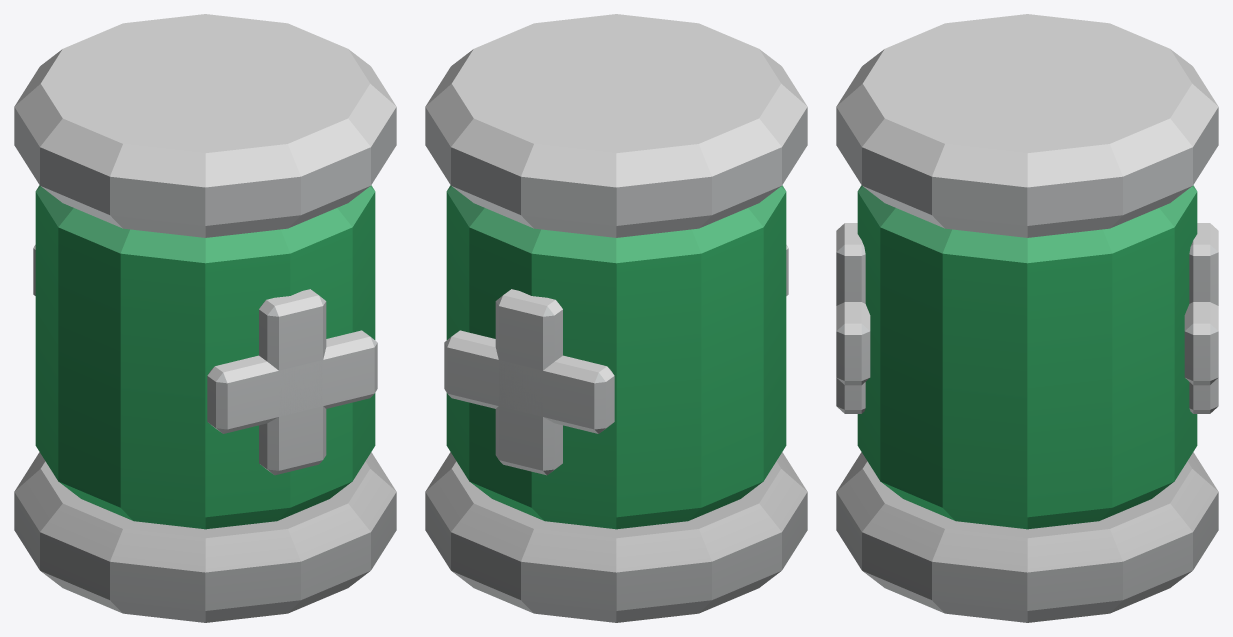
The model's file is pickup.glb.
The picture shows the model from 3 angles, left to right: view 1: azimuth 30°, elevation 25°; view 2: azimuth 150°, elevation 25°; view 3: azimuth 270°, elevation 25°; orthographic projection.
Parts seen in each view (by area): view 1: mesh_pickup; view 2: mesh_pickup; view 3: mesh_pickup.
Boxes of the visible parts, x1=… form: mesh_pickup: x1=14, y1=14, x2=396, y2=622; mesh_pickup: x1=425, y1=14, x2=807, y2=622; mesh_pickup: x1=836, y1=14, x2=1218, y2=622.
Size of the model in its own units: 0.45 by 0.61 by 0.45.
